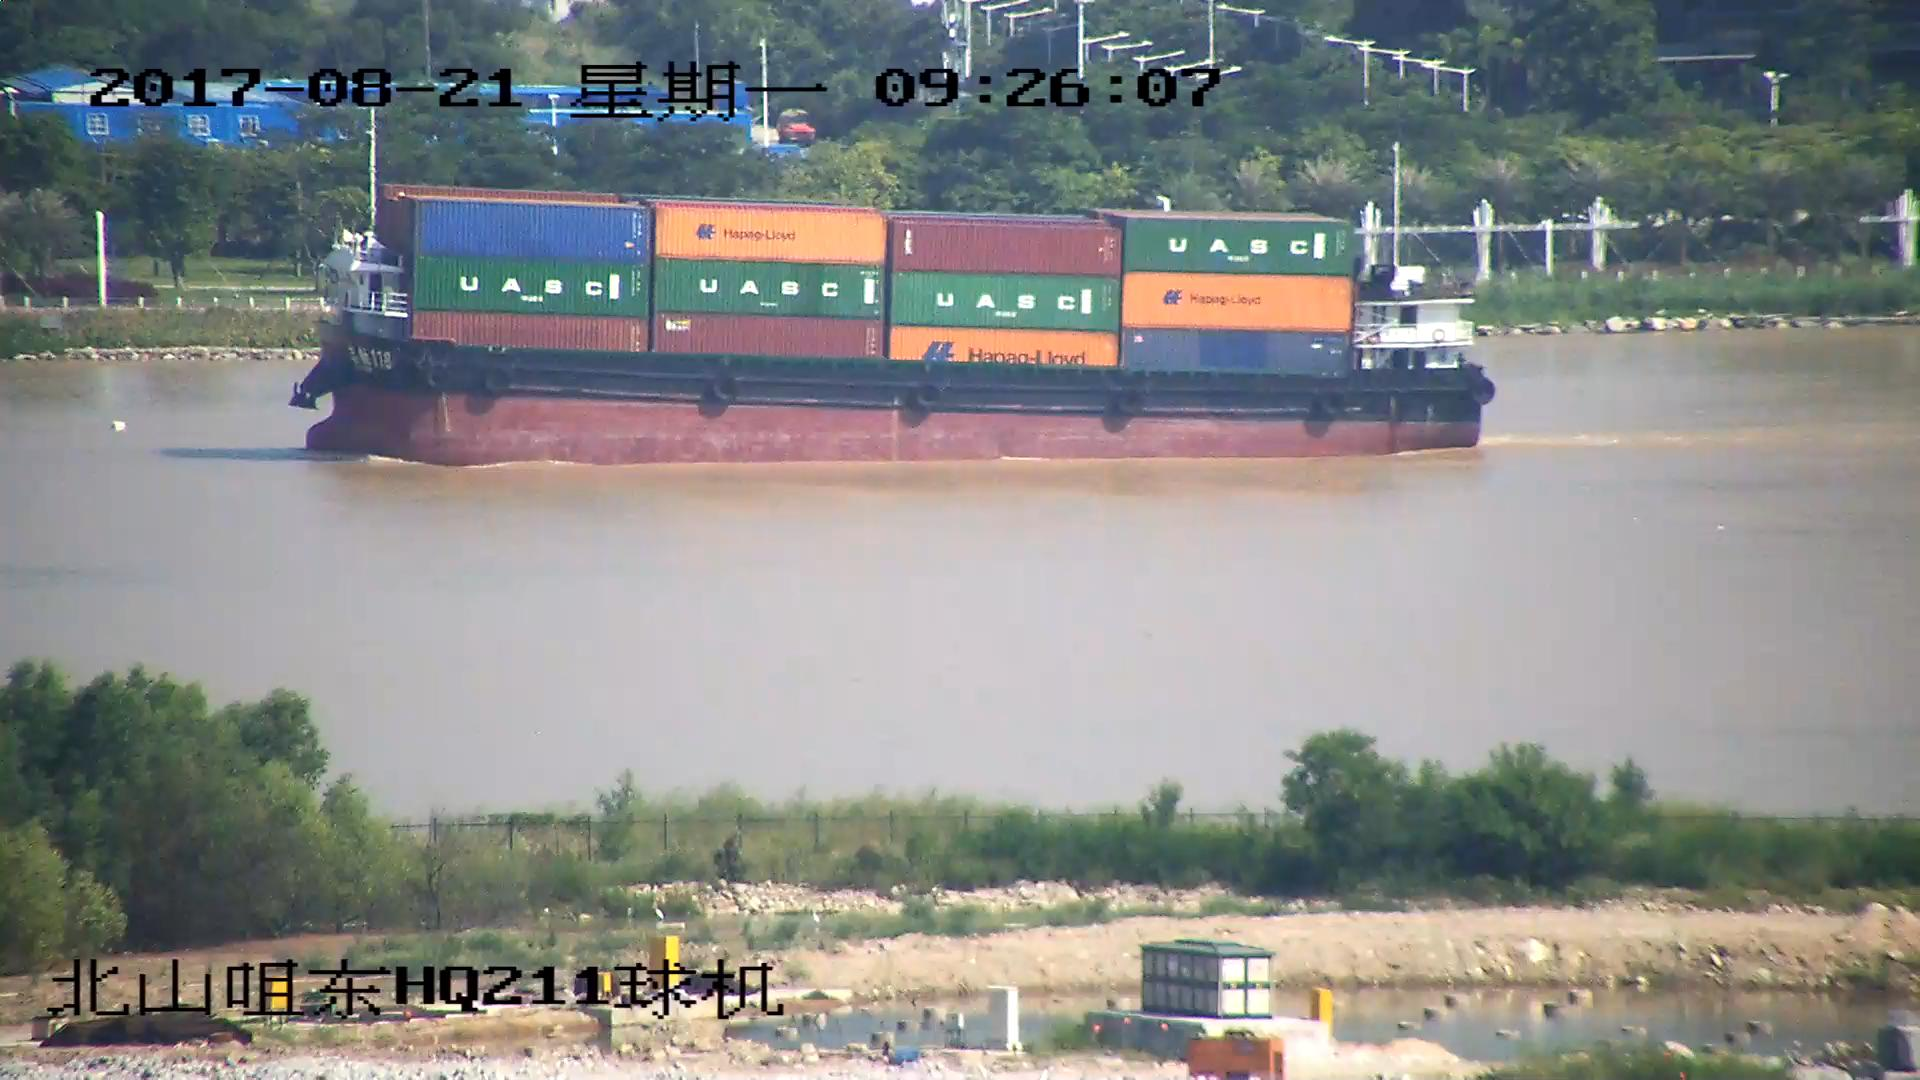container ship: (301, 121, 1494, 471)
